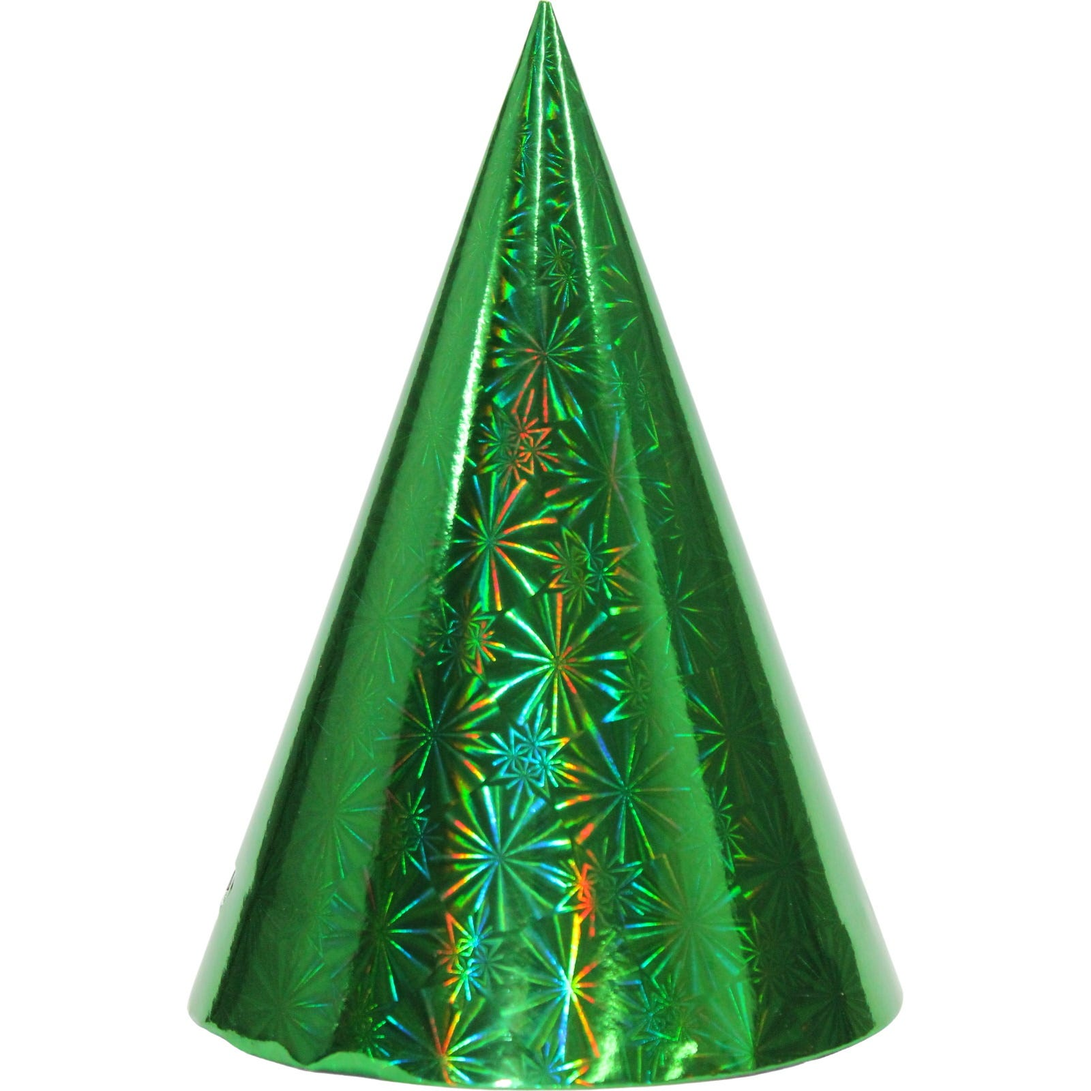cone: (188, 1, 903, 1091)
